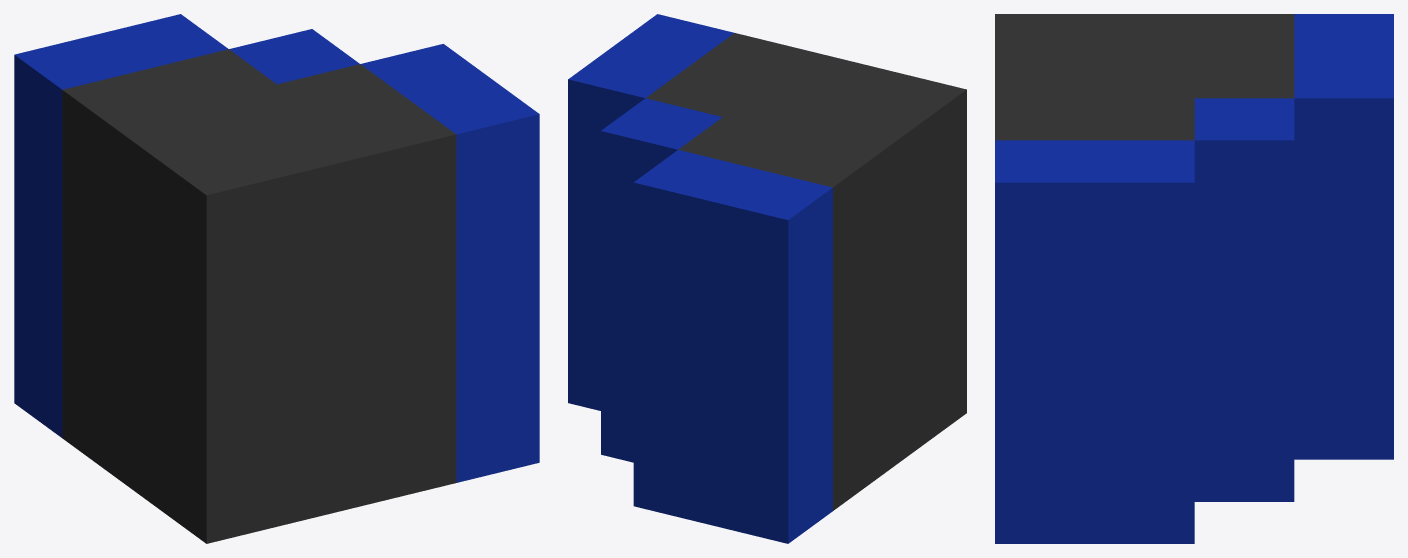
File: corner.gltf
3 renders of one model, left to right at view 1: azimuth 30°, elevation 25°; view 2: azimuth 150°, elevation 25°; view 3: azimuth 270°, elevation 25°, orthographic. The views are drawn at different scales.
Parts seen in each view (by area): view 1: InnerCorner, OuterCorner; view 2: OuterCorner, InnerCorner; view 3: OuterCorner, InnerCorner.
Boxes of the visible parts, bbox=[...] form: InnerCorner: bbox=[62, 49, 456, 543]; OuterCorner: bbox=[14, 14, 539, 482]; OuterCorner: bbox=[568, 14, 832, 543]; InnerCorner: bbox=[646, 33, 966, 510]; OuterCorner: bbox=[995, 14, 1393, 543]; InnerCorner: bbox=[995, 14, 1294, 140].
Bounding box in the file's own units: 4 × 4 × 4.
Materials: 2 (2 with a texture image).
